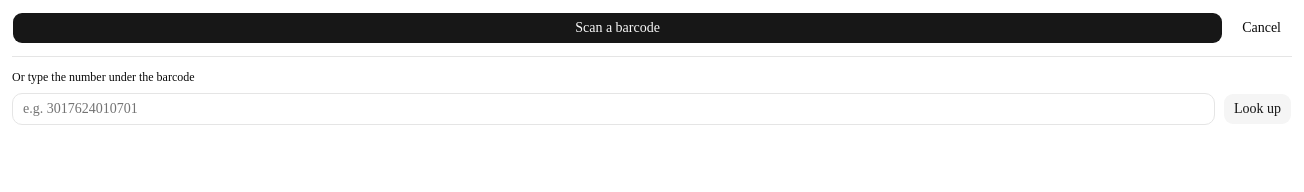
Test: BarcodeScanner — the stream reaches the element › says so when the browser refuses to play the stream
Click the button "Scan a barcode" at point(618, 28), box 12,12 -> 1223,44
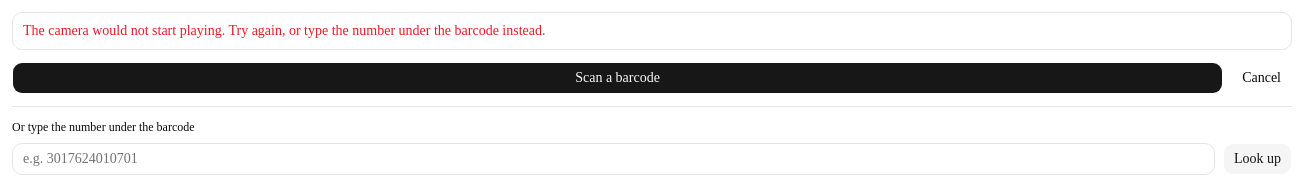
Expected: the text "would not start playing" is shown, 23,23 -> 546,38
